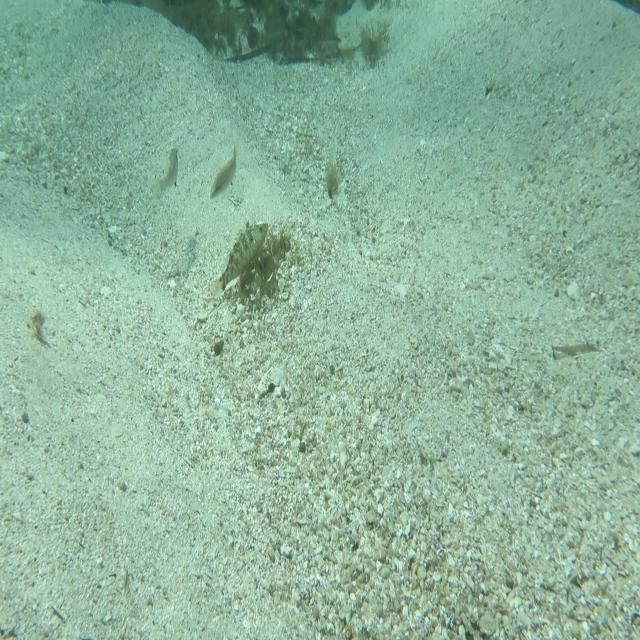ROLL: (208, 215, 271, 302)
female: (208, 143, 242, 205), (151, 142, 180, 200)
nest: (234, 214, 292, 303)
vegetation: (158, 0, 348, 52), (326, 155, 343, 206)
